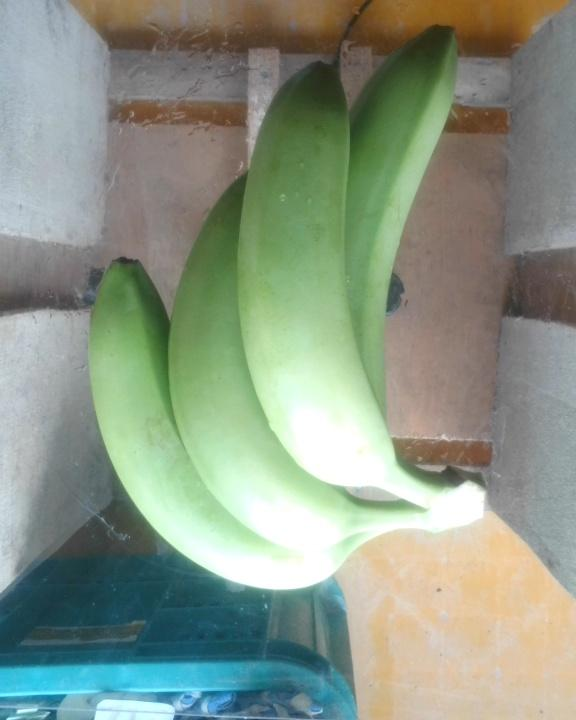SPOT: (86, 23, 504, 608)
